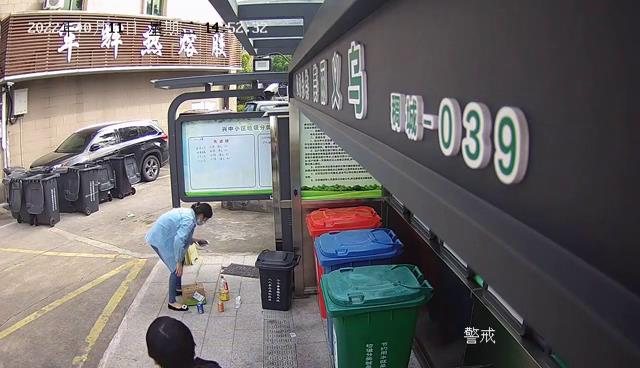lvzhipin: (196, 301, 205, 314), (218, 300, 224, 313)
person: (144, 315, 224, 368)
suliaozhipin: (218, 274, 231, 301), (233, 294, 241, 308)
worker: (143, 200, 213, 312)
zhizhipin: (180, 281, 207, 307)
